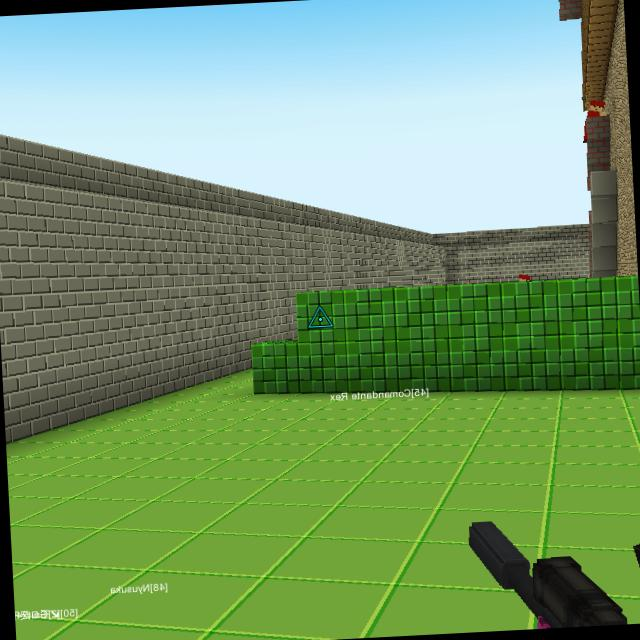enemy: (580, 99, 609, 144), (516, 274, 532, 282)
